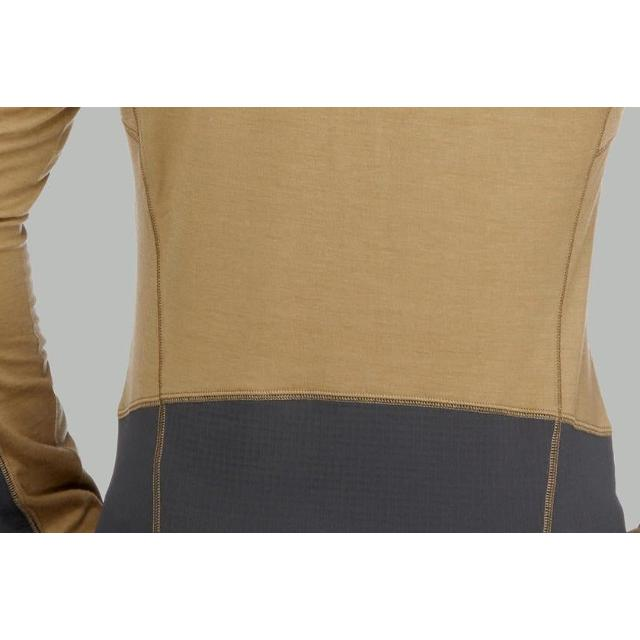wool: (0, 107, 640, 533)
